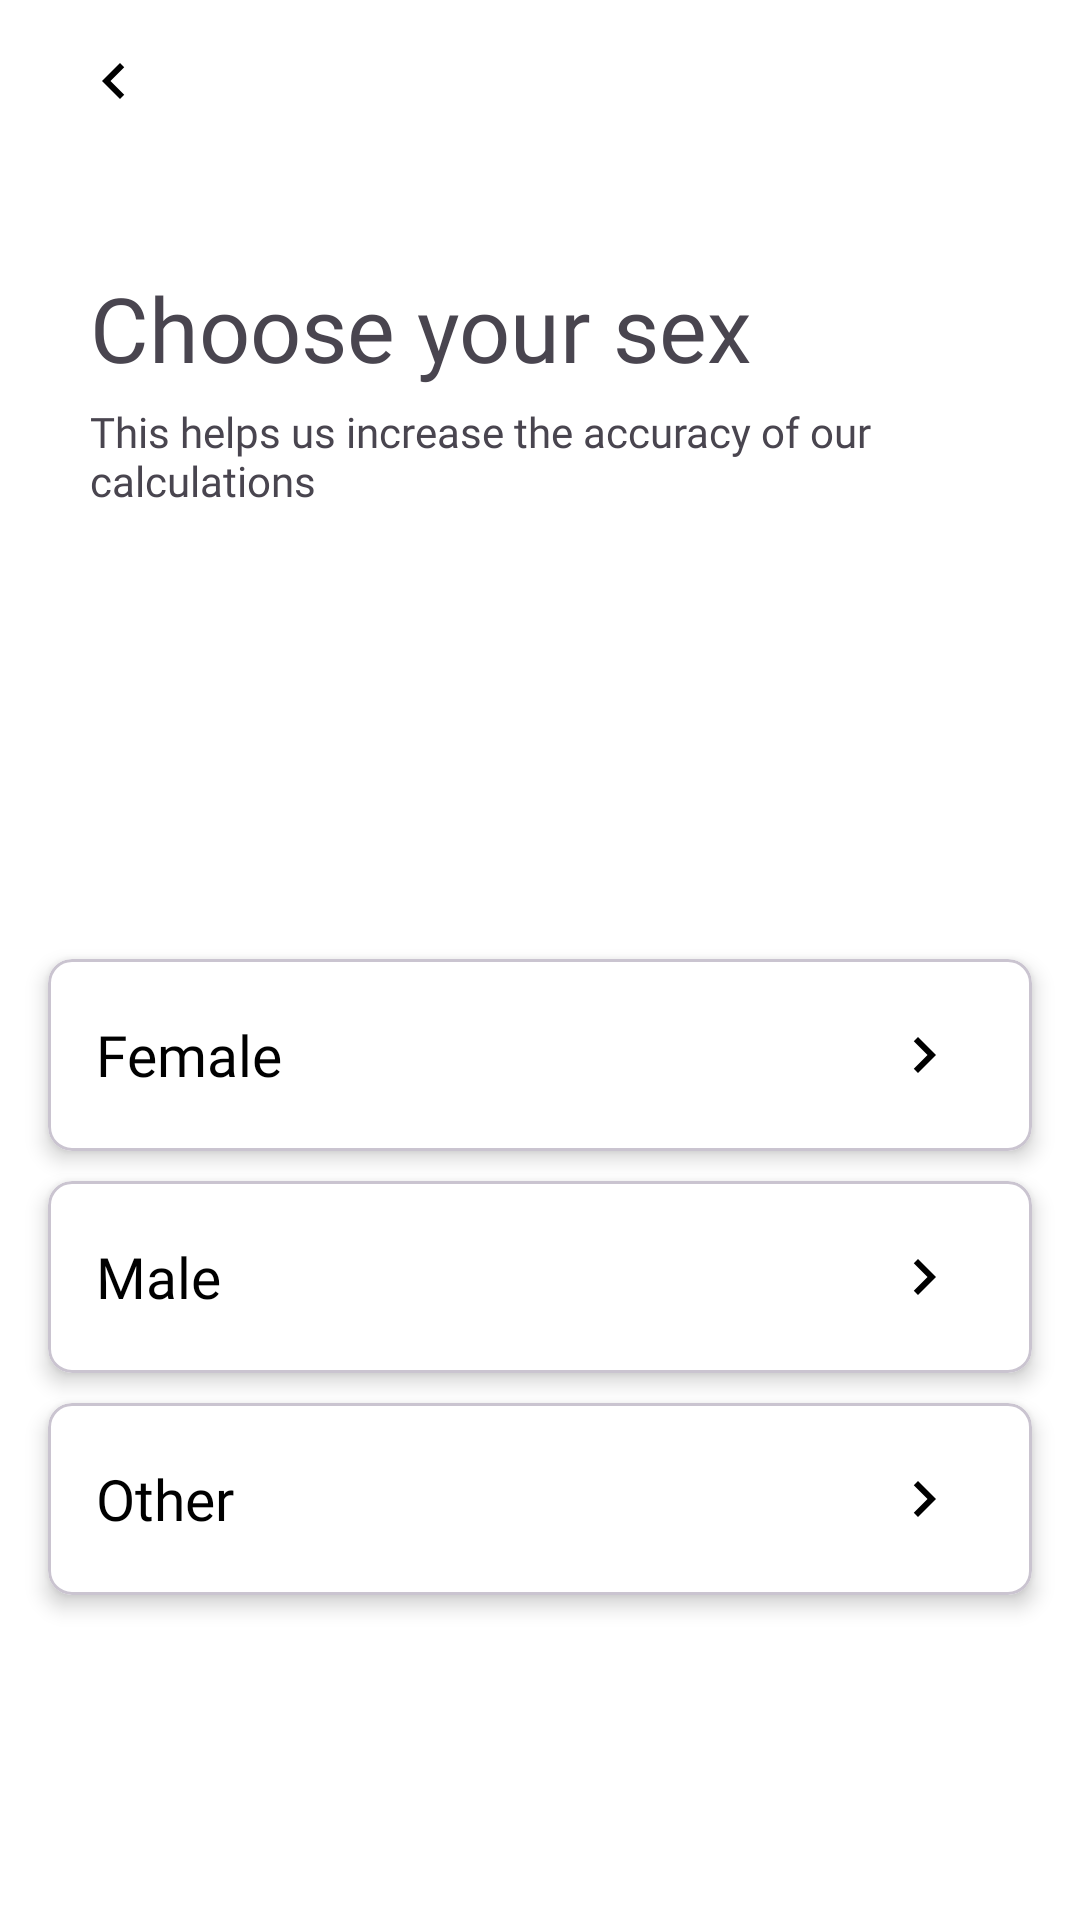

Icon bounding boxes for this 1080 x 1920 phone screenshot, format Rect(x1, y1, x2, y2):
chevron left: Rect(102, 63, 124, 99)
chevron right: Rect(914, 1037, 936, 1073), Rect(914, 1259, 936, 1295), Rect(914, 1481, 936, 1517)
